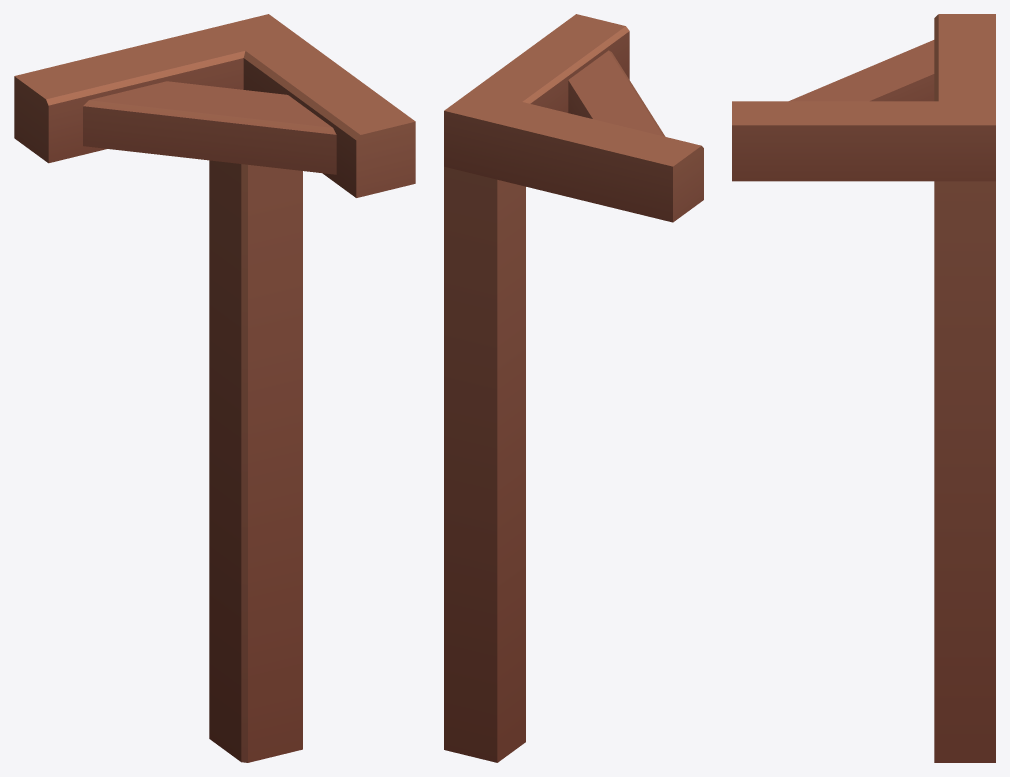
The model's file is scaffold_pillar_corner.glb.
3 views of the same model, side by side, from view 1: azimuth 30°, elevation 25°; view 2: azimuth 150°, elevation 25°; view 3: azimuth 270°, elevation 25° (orthographic). The views are drawn at different scales.
Visible parts, largest first — view 1: scaffold_pillar_corner; view 2: scaffold_pillar_corner; view 3: scaffold_pillar_corner.
Part boxes in pixels (x1,y1,x2,y2): scaffold_pillar_corner: (14, 14, 415, 762); scaffold_pillar_corner: (444, 14, 703, 762); scaffold_pillar_corner: (732, 14, 995, 762).
Size of the model in its own units: 1.5 by 4 by 1.5.
Materials: 1 (1 with a texture image).
